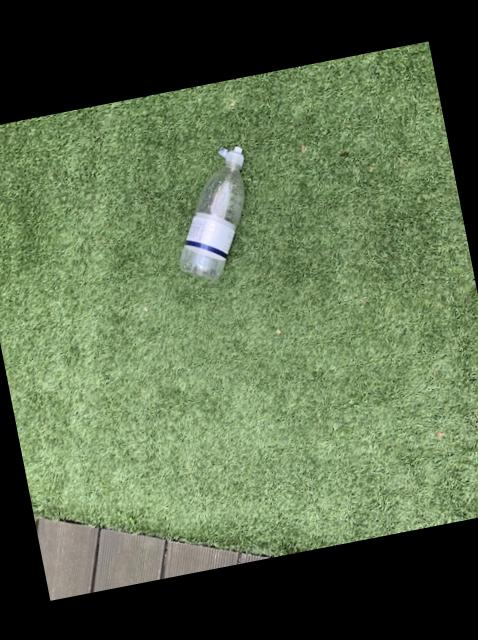plastic: (178, 146, 243, 280)
